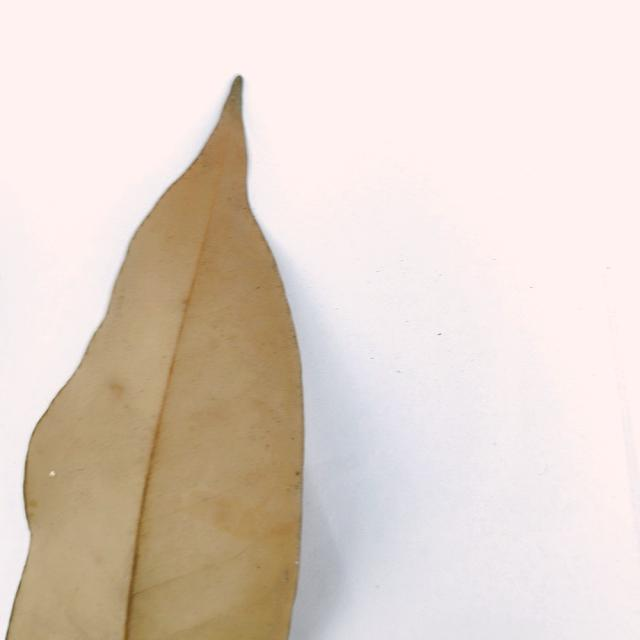Dry_Leaf-Lychee: (3, 80, 306, 639)
